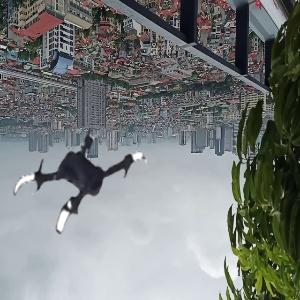drone: (11, 117, 152, 258)
